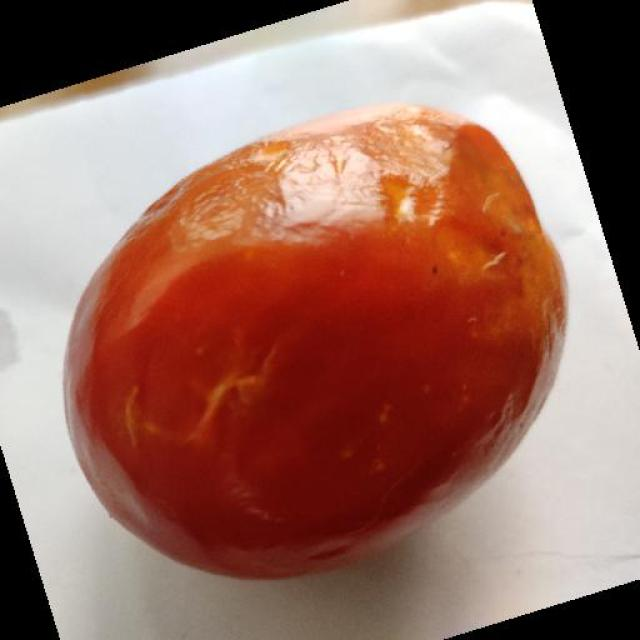Stale_tomato: (95, 101, 560, 542)
